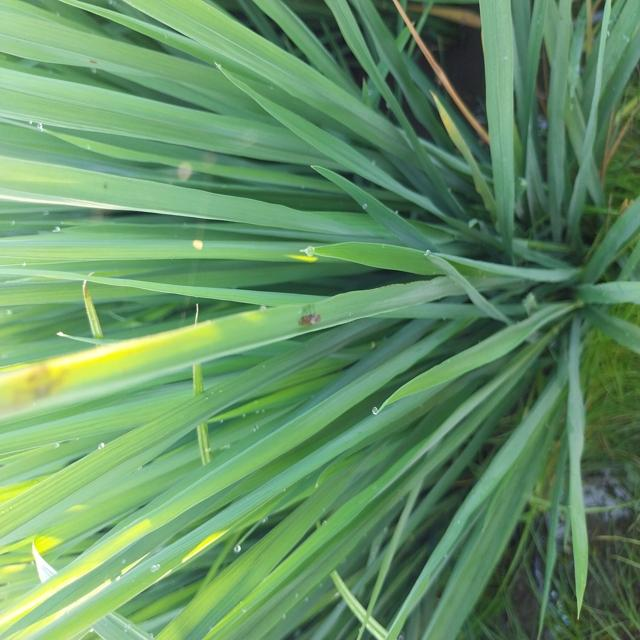healthy: (290, 300, 328, 334)
